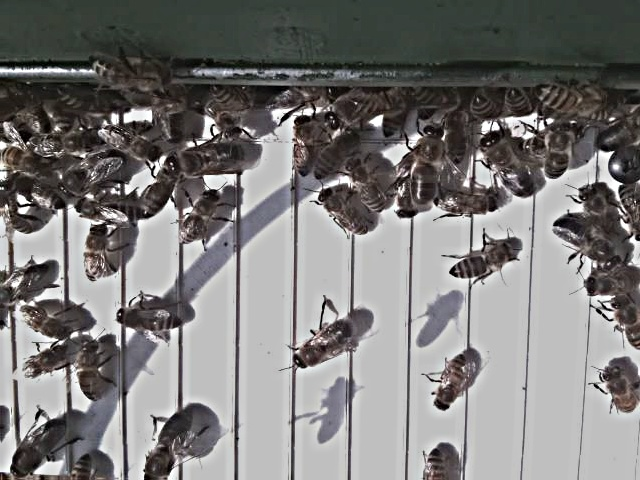Drone: (286, 316, 358, 375), (549, 214, 621, 273), (479, 130, 538, 201), (140, 407, 197, 480), (6, 417, 71, 480), (162, 142, 246, 180), (409, 124, 446, 206)
Worker: (445, 244, 513, 285), (97, 123, 160, 164), (315, 188, 366, 238), (178, 190, 220, 250), (309, 129, 355, 182), (346, 159, 386, 217), (429, 355, 469, 412), (598, 363, 640, 416), (71, 196, 142, 226), (111, 304, 181, 334), (11, 305, 71, 340), (81, 223, 114, 286), (140, 169, 176, 222), (610, 296, 640, 357), (580, 271, 640, 298), (78, 341, 104, 403)
